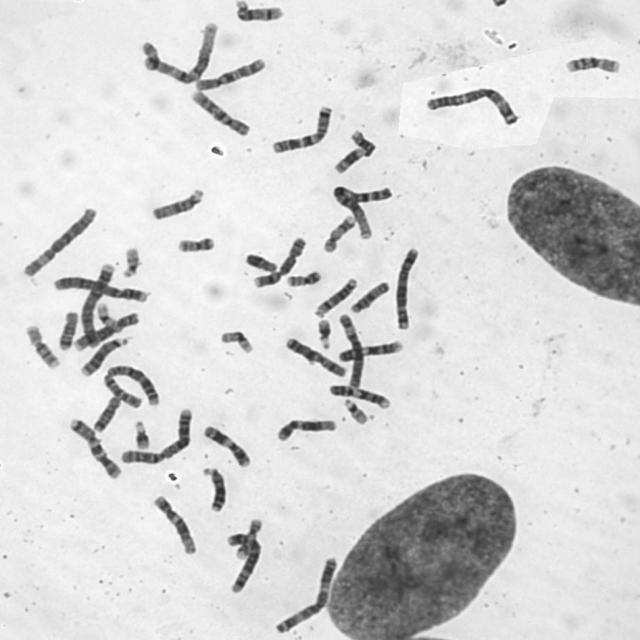A1: (135, 17, 220, 85), (327, 181, 392, 241)
A2: (115, 404, 193, 466), (98, 361, 162, 409)
A3: (270, 552, 340, 635), (421, 82, 520, 127)
B4: (74, 258, 117, 352), (49, 272, 149, 304)
B5: (390, 243, 421, 331), (222, 528, 263, 594)
C10: (186, 85, 251, 138), (188, 54, 268, 92)
C11: (328, 125, 378, 176), (199, 421, 252, 469)
C12: (149, 491, 197, 555), (272, 413, 338, 443)
C6: (18, 202, 99, 278), (334, 310, 366, 390)
C7: (64, 413, 123, 480), (267, 101, 334, 155)
C8: (248, 233, 308, 289), (70, 308, 140, 352)
C9: (324, 380, 392, 410), (334, 337, 405, 363)
D13: (76, 333, 130, 378), (197, 462, 228, 513)
D14: (309, 274, 359, 318), (231, 0, 285, 23)
D15: (146, 184, 204, 221), (346, 276, 392, 314)
E16: (21, 320, 61, 370), (561, 51, 622, 75)
E17: (320, 211, 358, 254), (232, 515, 264, 562)
E18: (89, 392, 123, 433), (54, 306, 80, 352)
F19: (215, 325, 255, 355), (91, 300, 117, 328)
F20: (172, 232, 216, 254), (282, 266, 323, 288)
G21: (130, 416, 151, 451), (313, 315, 334, 349)
G22: (340, 394, 370, 426), (118, 242, 142, 279)
X: (280, 333, 349, 379), (70, 308, 140, 352)
Y: (240, 249, 278, 273)
